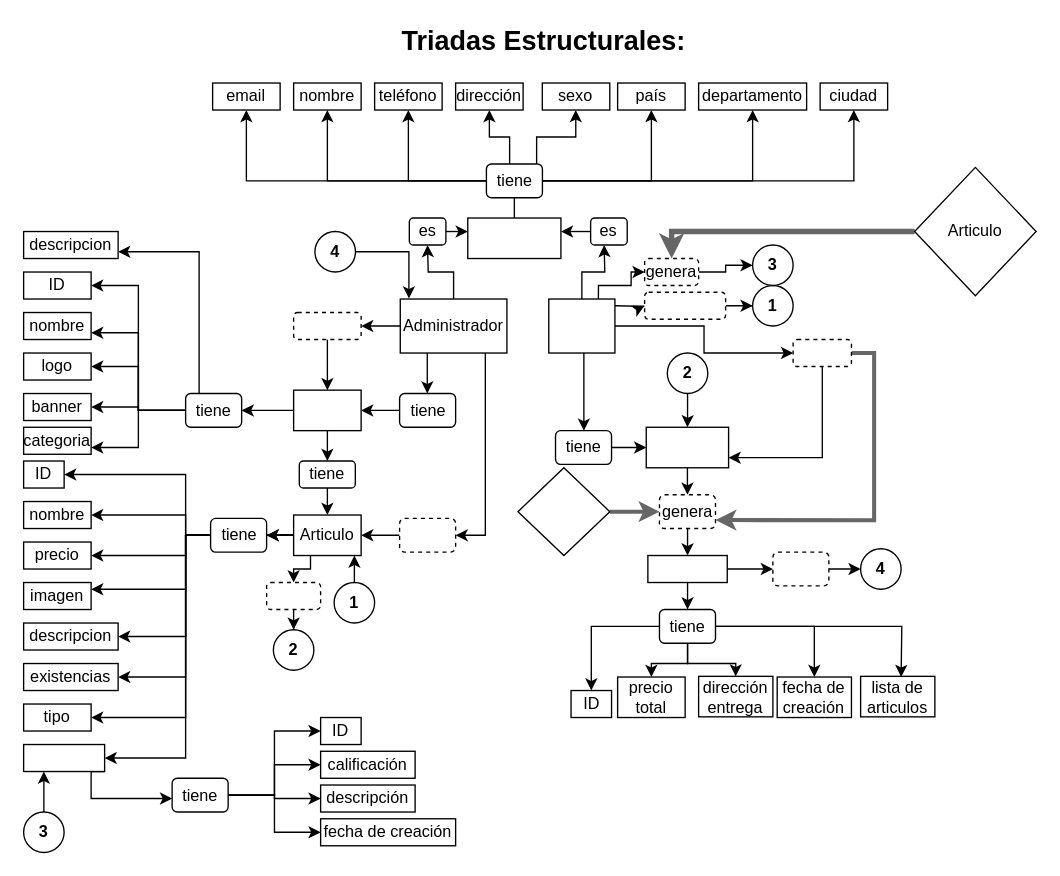
Image size: 1060x876. Some labels were removed from this diagram. Here are the shapes that lost their labels. From the top down, the centre of each, then its label:
At point 513,238: "Usuario".
At point 326,325: "crea".
At point 581,325: "Cliente".
At point 684,305: "selecciona".
At point 821,352: "paga".
At point 326,410: "Tienda".
At point 687,447: "Carrito de compra".
At point 563,511: "carrito.pago = True".
At point 427,534: "registra".
At point 687,568: "Pedido".
At point 800,568: "notifica".
At point 293,595: "añade".
At point 63,757: "valoración".
